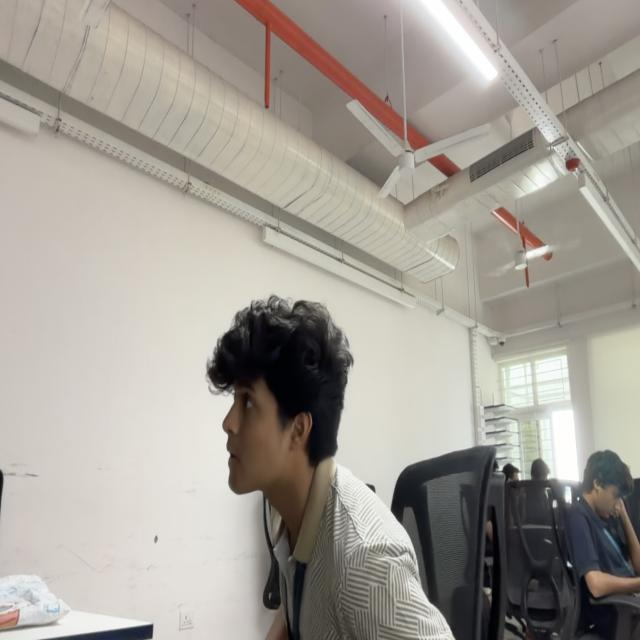kshitij: (206, 297, 352, 499)
